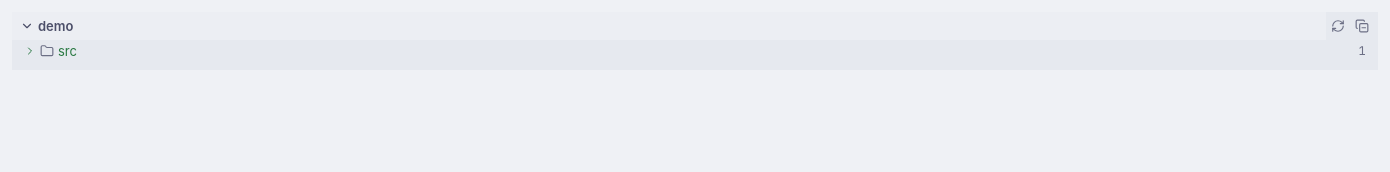
Scenario: shows collapsed folder changes, opens files and clears decorations without collapsing
Expected: the text named "git.directoryChanges: 1" is shown, [1358,43,1366,59]
Step 1. Click the button titled "src" → (30, 51), box [12,40,1378,62]
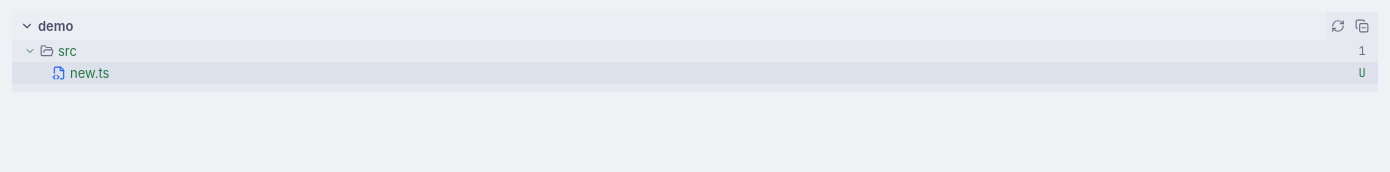
Step 2. Click the button titled "src/new.ts" → (90, 73), box [12,62,1378,84]
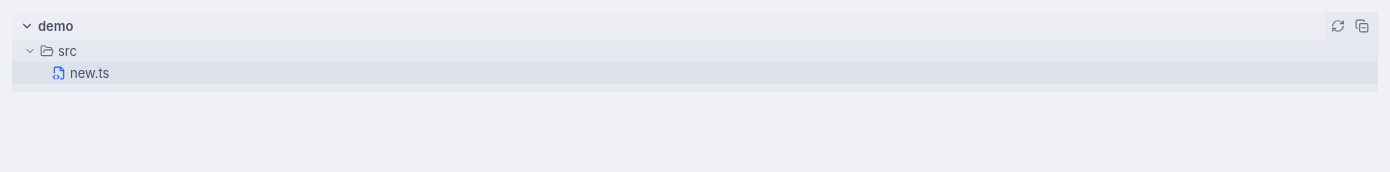
Expected: the button titled "src/new.ts" is shown, [12,62,1378,84]
Expected: the text named "git.states.untracked" is gone
